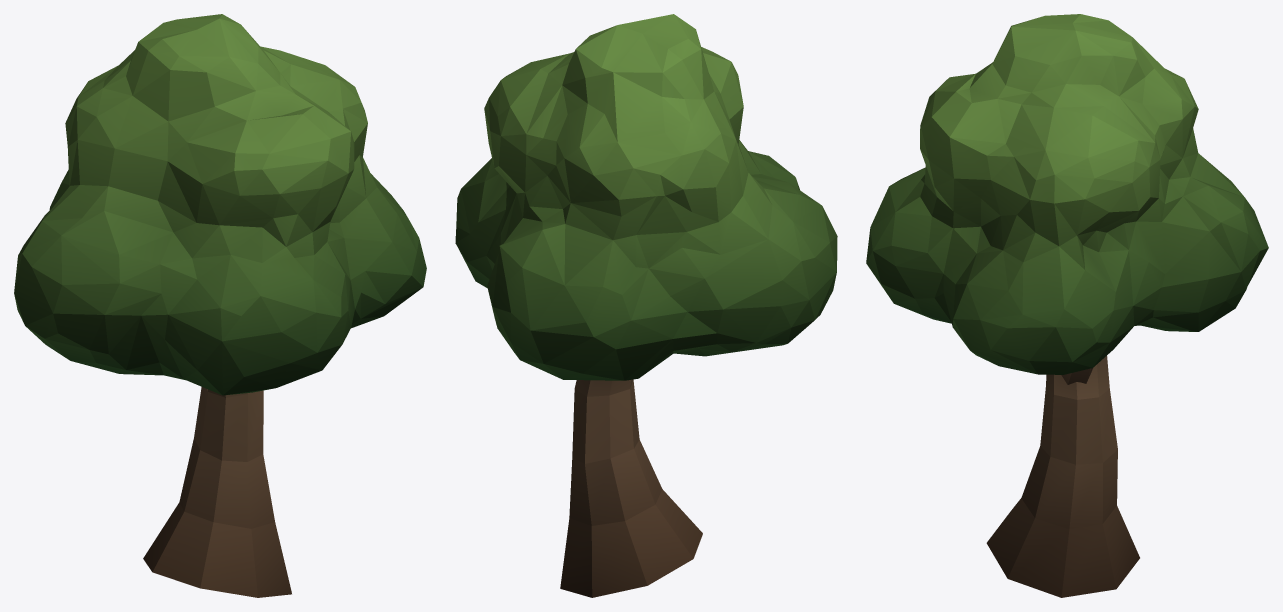
File: dab_3.glb
The picture shows the model from 3 angles, left to right: view 1: azimuth 30°, elevation 25°; view 2: azimuth 150°, elevation 25°; view 3: azimuth 270°, elevation 25°; orthographic projection. The views are drawn at different scales.
Visible parts, largest first — view 1: dab_3; view 2: dab_3; view 3: dab_3.
Boxes of the visible parts, box(x1,y1,x2,y2) form: dab_3: box(14, 14, 426, 597); dab_3: box(455, 14, 837, 597); dab_3: box(866, 14, 1268, 597).
Size of the model in its own units: 1.88 by 2.73 by 1.84.
